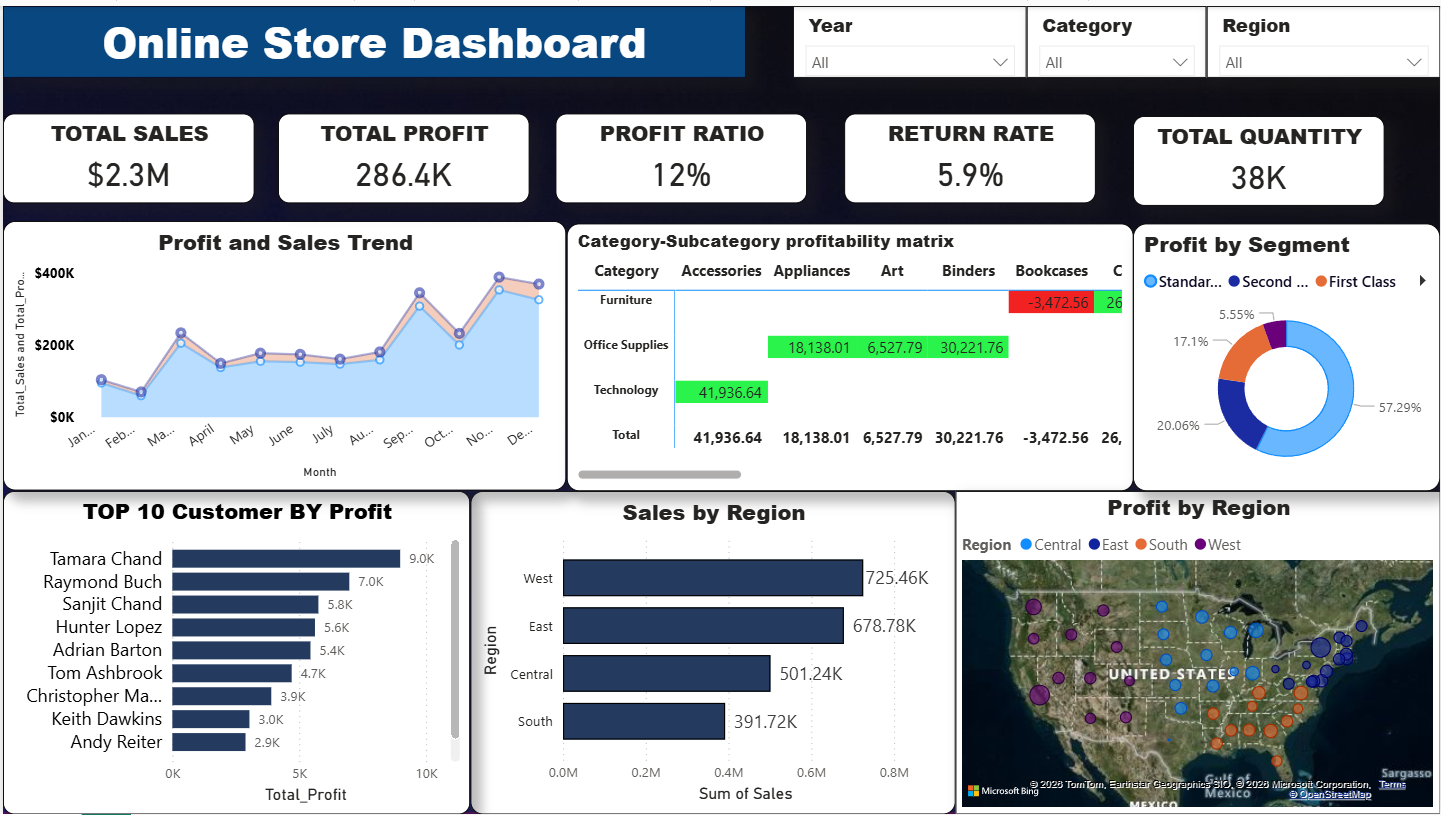

The dashboard page shown, as its layout file describes it:
{"tool":"powerbi","page":{"name":"Page 1","canvas":[1280,720],"ordinal":0},"visuals":[{"type":"clusteredBarChart","title":"Sales by Region","fields":{"Category":["Orders$FilterDatabase.Region"],"Y":["Sum(Orders$FilterDatabase.Sales)"]},"box":[416,432,432,288],"z":0},{"type":"card","title":"TOTAL SALES ","fields":{"Values":["Orders$FilterDatabase.Total_Sales"]},"box":[0,96,224,80],"z":1000},{"type":"card","title":"PROFIT RATIO","fields":{"Values":["Orders$FilterDatabase.Profit_Ratio"]},"box":[491.6,96,224,80],"z":2000},{"type":"clusteredBarChart","title":"TOP 10 Customer BY Profit","fields":{"Category":["Orders$FilterDatabase.Customer Name"],"Y":["Orders$FilterDatabase.Total_Profit"]},"box":[0,432,416,288],"z":3000},{"type":"stackedAreaChart","title":" Profit and  Sales Trend","fields":{"Category":["Orders$FilterDatabase.Order Date.Variation.Date Hierarchy.Month"],"Y":["Orders$FilterDatabase.Total_Sales","Orders$FilterDatabase.Total_Profit"]},"box":[0,192,501.8,240],"z":4000},{"type":"pivotTable","title":"Category-Subcategory profitability matrix ","fields":{"Values":["Orders$FilterDatabase.Total_Profit"],"Rows":["Orders$FilterDatabase.Category"],"Columns":["Orders$FilterDatabase.Sub-Category"]},"box":[501.8,193.5,504.7,238.5],"z":5000},{"type":"textbox","box":[0,0,661.8,64],"z":6000},{"type":"slicer","fields":{"Values":["Orders$FilterDatabase.Order Date.Variation.Date Hierarchy.Year"]},"box":[704,0,208,64],"z":7000},{"type":"slicer","fields":{"Values":["Orders$FilterDatabase.Category"]},"box":[912,0,160,64],"z":8000},{"type":"slicer","fields":{"Values":["Orders$FilterDatabase.Region"]},"box":[1072,0,208,64],"z":9000},{"type":"card","title":"RETURN RATE","fields":{"Values":["Orders$FilterDatabase.Return Rate"]},"box":[749.1,96,224,80],"z":10000},{"type":"map","title":"Profit by Region","fields":{"Category":["Orders$FilterDatabase.State"],"Series":["Orders$FilterDatabase.Region"],"Size":["Sum(Orders$FilterDatabase.Profit)"]},"box":[848,432,432,288],"z":11000},{"type":"card","title":"TOTAL PROFIT","fields":{"Values":["Orders$FilterDatabase.Total_Profit"]},"box":[244.4,96,224,80],"z":12000},{"type":"card","title":"TOTAL QUANTITY","fields":{"Values":["Orders$FilterDatabase.TOTAL_QUANTITY"]},"box":[1006.5,97.5,224,80],"z":13000},{"type":"donutChart","title":"Profit by Segment","fields":{"Y":["Sum(Orders$FilterDatabase.Profit)"],"Category":["Orders$FilterDatabase.Ship Mode"]},"box":[1006.5,193.5,273.5,238.5],"z":14000}]}

Visuals, with their boxes in screenshot pixels (x1, y1, x2, y2), scaled from the page's 1280x720 canvas onto the 1441x815 screenshot:
"Sales by Region" clusteredBarChart: (left=468, top=489, right=955, bottom=814)
"TOTAL SALES " card: (left=0, top=109, right=252, bottom=199)
"PROFIT RATIO" card: (left=553, top=109, right=806, bottom=199)
"TOP 10 Customer BY Profit" clusteredBarChart: (left=0, top=489, right=468, bottom=814)
" Profit and  Sales Trend" stackedAreaChart: (left=0, top=217, right=565, bottom=489)
"Category-Subcategory profitability matrix " pivotTable: (left=565, top=219, right=1133, bottom=489)
textbox: (left=0, top=0, right=745, bottom=72)
slicer - Orders$FilterDatabase.Order Date.Variation.Date Hierarchy.Year: (left=793, top=0, right=1027, bottom=72)
slicer - Orders$FilterDatabase.Category: (left=1027, top=0, right=1207, bottom=72)
slicer - Orders$FilterDatabase.Region: (left=1207, top=0, right=1440, bottom=72)
"RETURN RATE" card: (left=843, top=109, right=1095, bottom=199)
"Profit by Region" map: (left=955, top=489, right=1440, bottom=814)
"TOTAL PROFIT" card: (left=275, top=109, right=527, bottom=199)
"TOTAL QUANTITY" card: (left=1133, top=110, right=1385, bottom=201)
"Profit by Segment" donutChart: (left=1133, top=219, right=1440, bottom=489)
